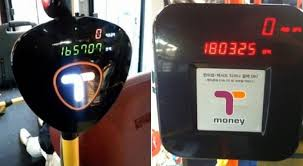terminal: (6, 15, 135, 141)
